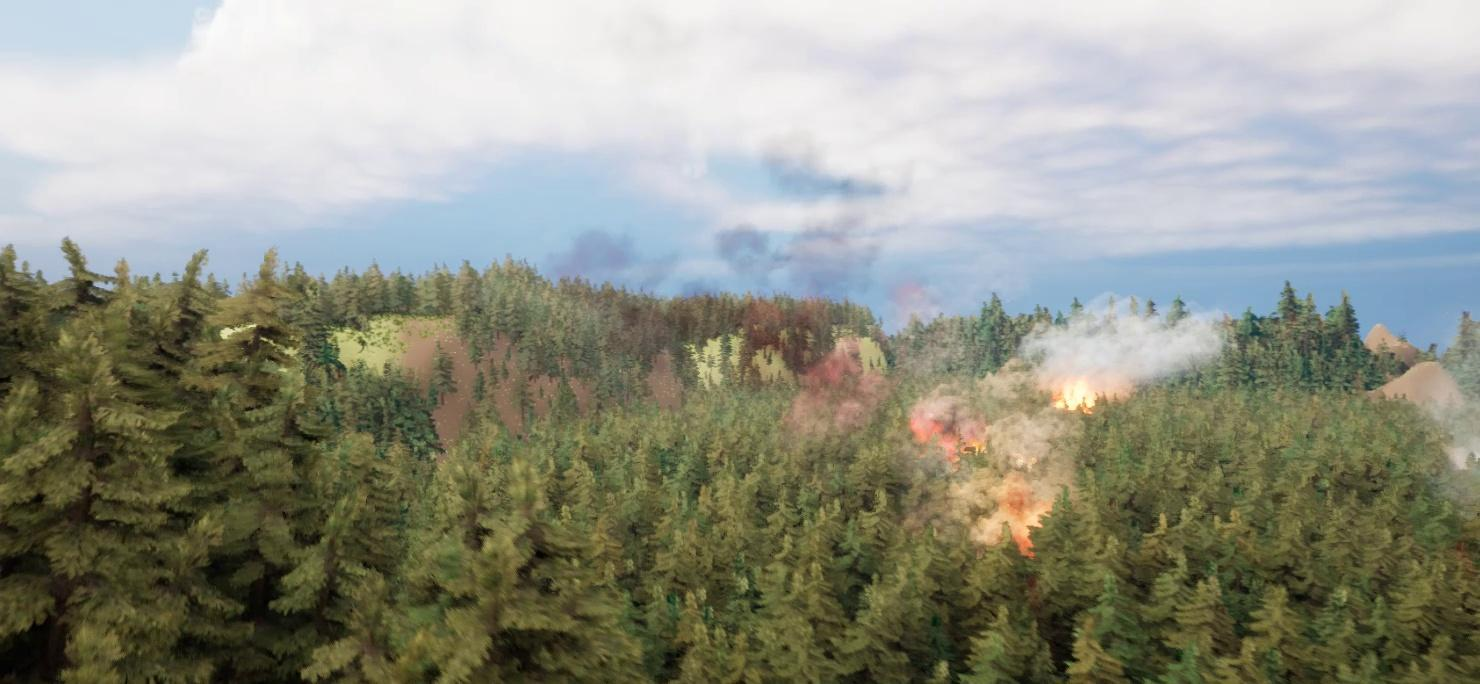fire: (913, 409, 1080, 558), (1054, 381, 1111, 422)
smoke: (549, 124, 931, 432), (1000, 299, 1226, 378)
